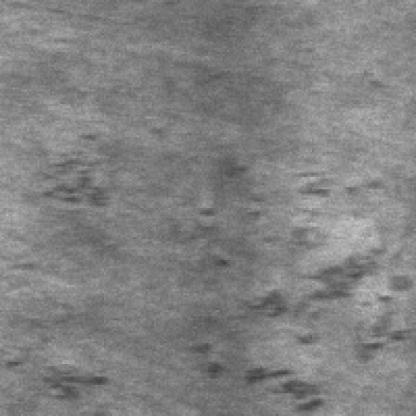rolled-in_scale: (204, 156, 414, 414), (40, 119, 116, 226), (8, 350, 125, 404)
